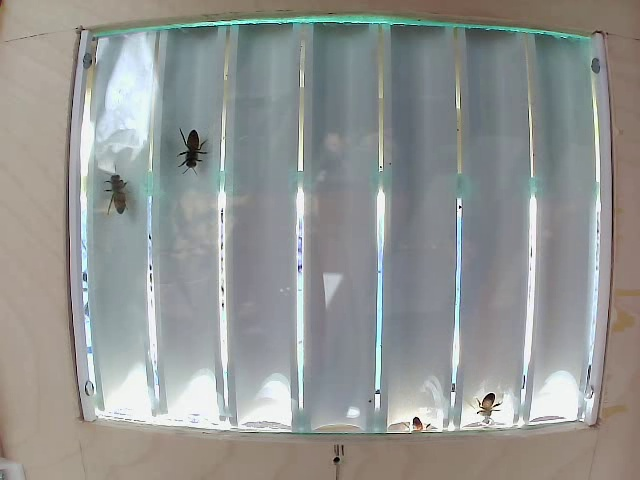bee: (175, 114, 222, 188), (95, 169, 141, 222)
